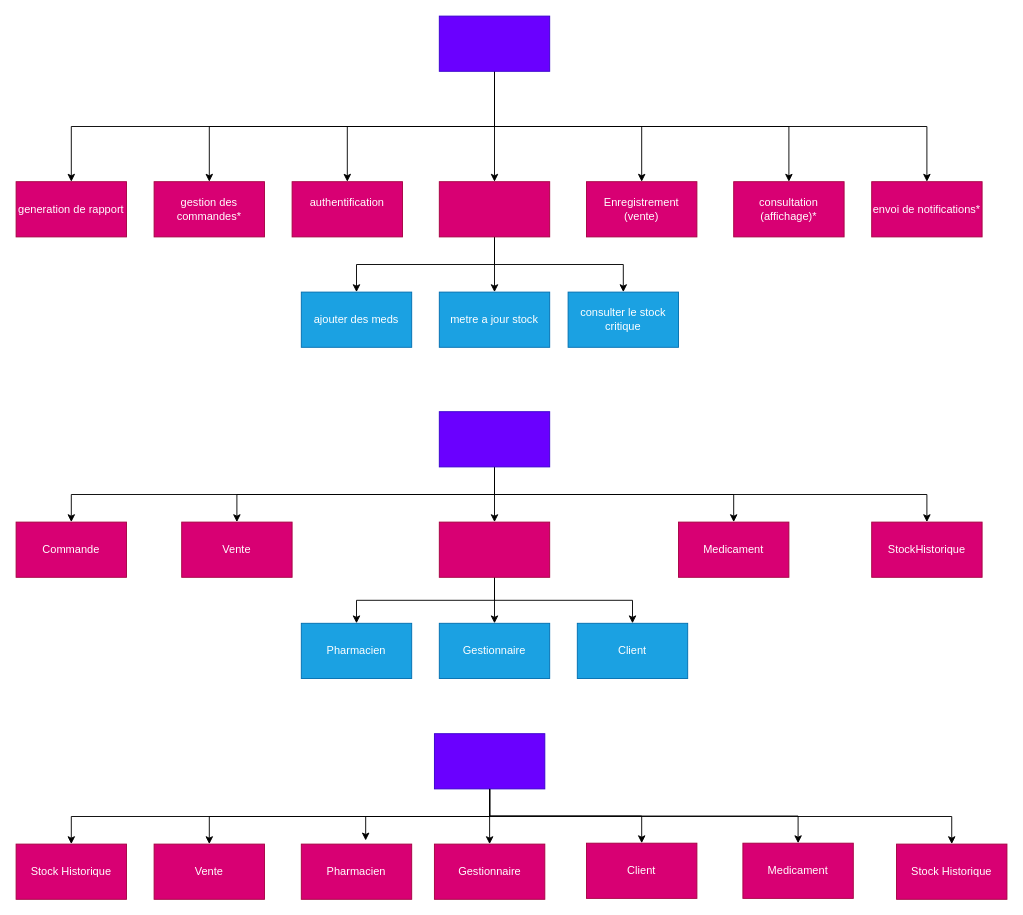
The diagram is 1023 pixels wide and 915 high, and some of its shapes have lost their labels. The centre of each missing label's shape, as x and y in pixels:
Gestion de stocck: (494,209)
JDBC: (489,761)
Models: (494,439)
Service: (494,43)
Utilisateur: (494,549)
